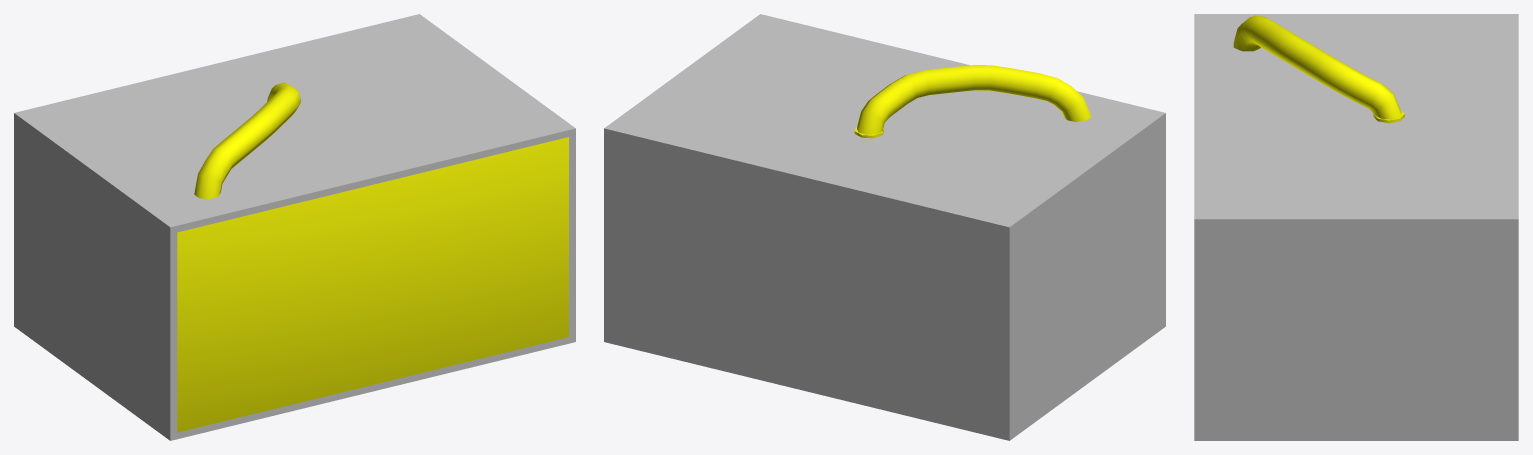
File: sm_hana_epms_generator.glb
3 renders of one model, left to right at view 1: azimuth 30°, elevation 25°; view 2: azimuth 150°, elevation 25°; view 3: azimuth 270°, elevation 25°, orthographic. The views are drawn at different scales.
Parts seen in each view (by area): view 1: sm_color_common, sm_hana_epms_generator; view 2: sm_color_common, sm_hana_epms_generator; view 3: sm_color_common, sm_hana_epms_generator.
Boxes of the visible parts, x1,y1,x2,y2 form: sm_color_common: [14, 14, 575, 440]; sm_hana_epms_generator: [177, 82, 568, 432]; sm_color_common: [604, 14, 1165, 440]; sm_hana_epms_generator: [854, 65, 1091, 138]; sm_color_common: [1194, 14, 1518, 440]; sm_hana_epms_generator: [1233, 15, 1404, 123].
Size of the model in its own units: 2.27 by 1.42 by 1.51.
Materials: 2 (1 with a texture image).
